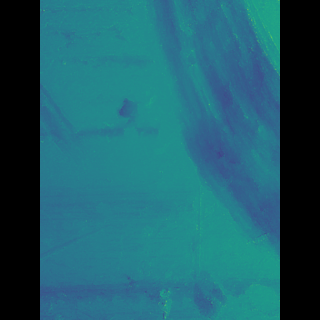Loch: (136, 0, 250, 278), (69, 74, 113, 179), (69, 221, 125, 264)
